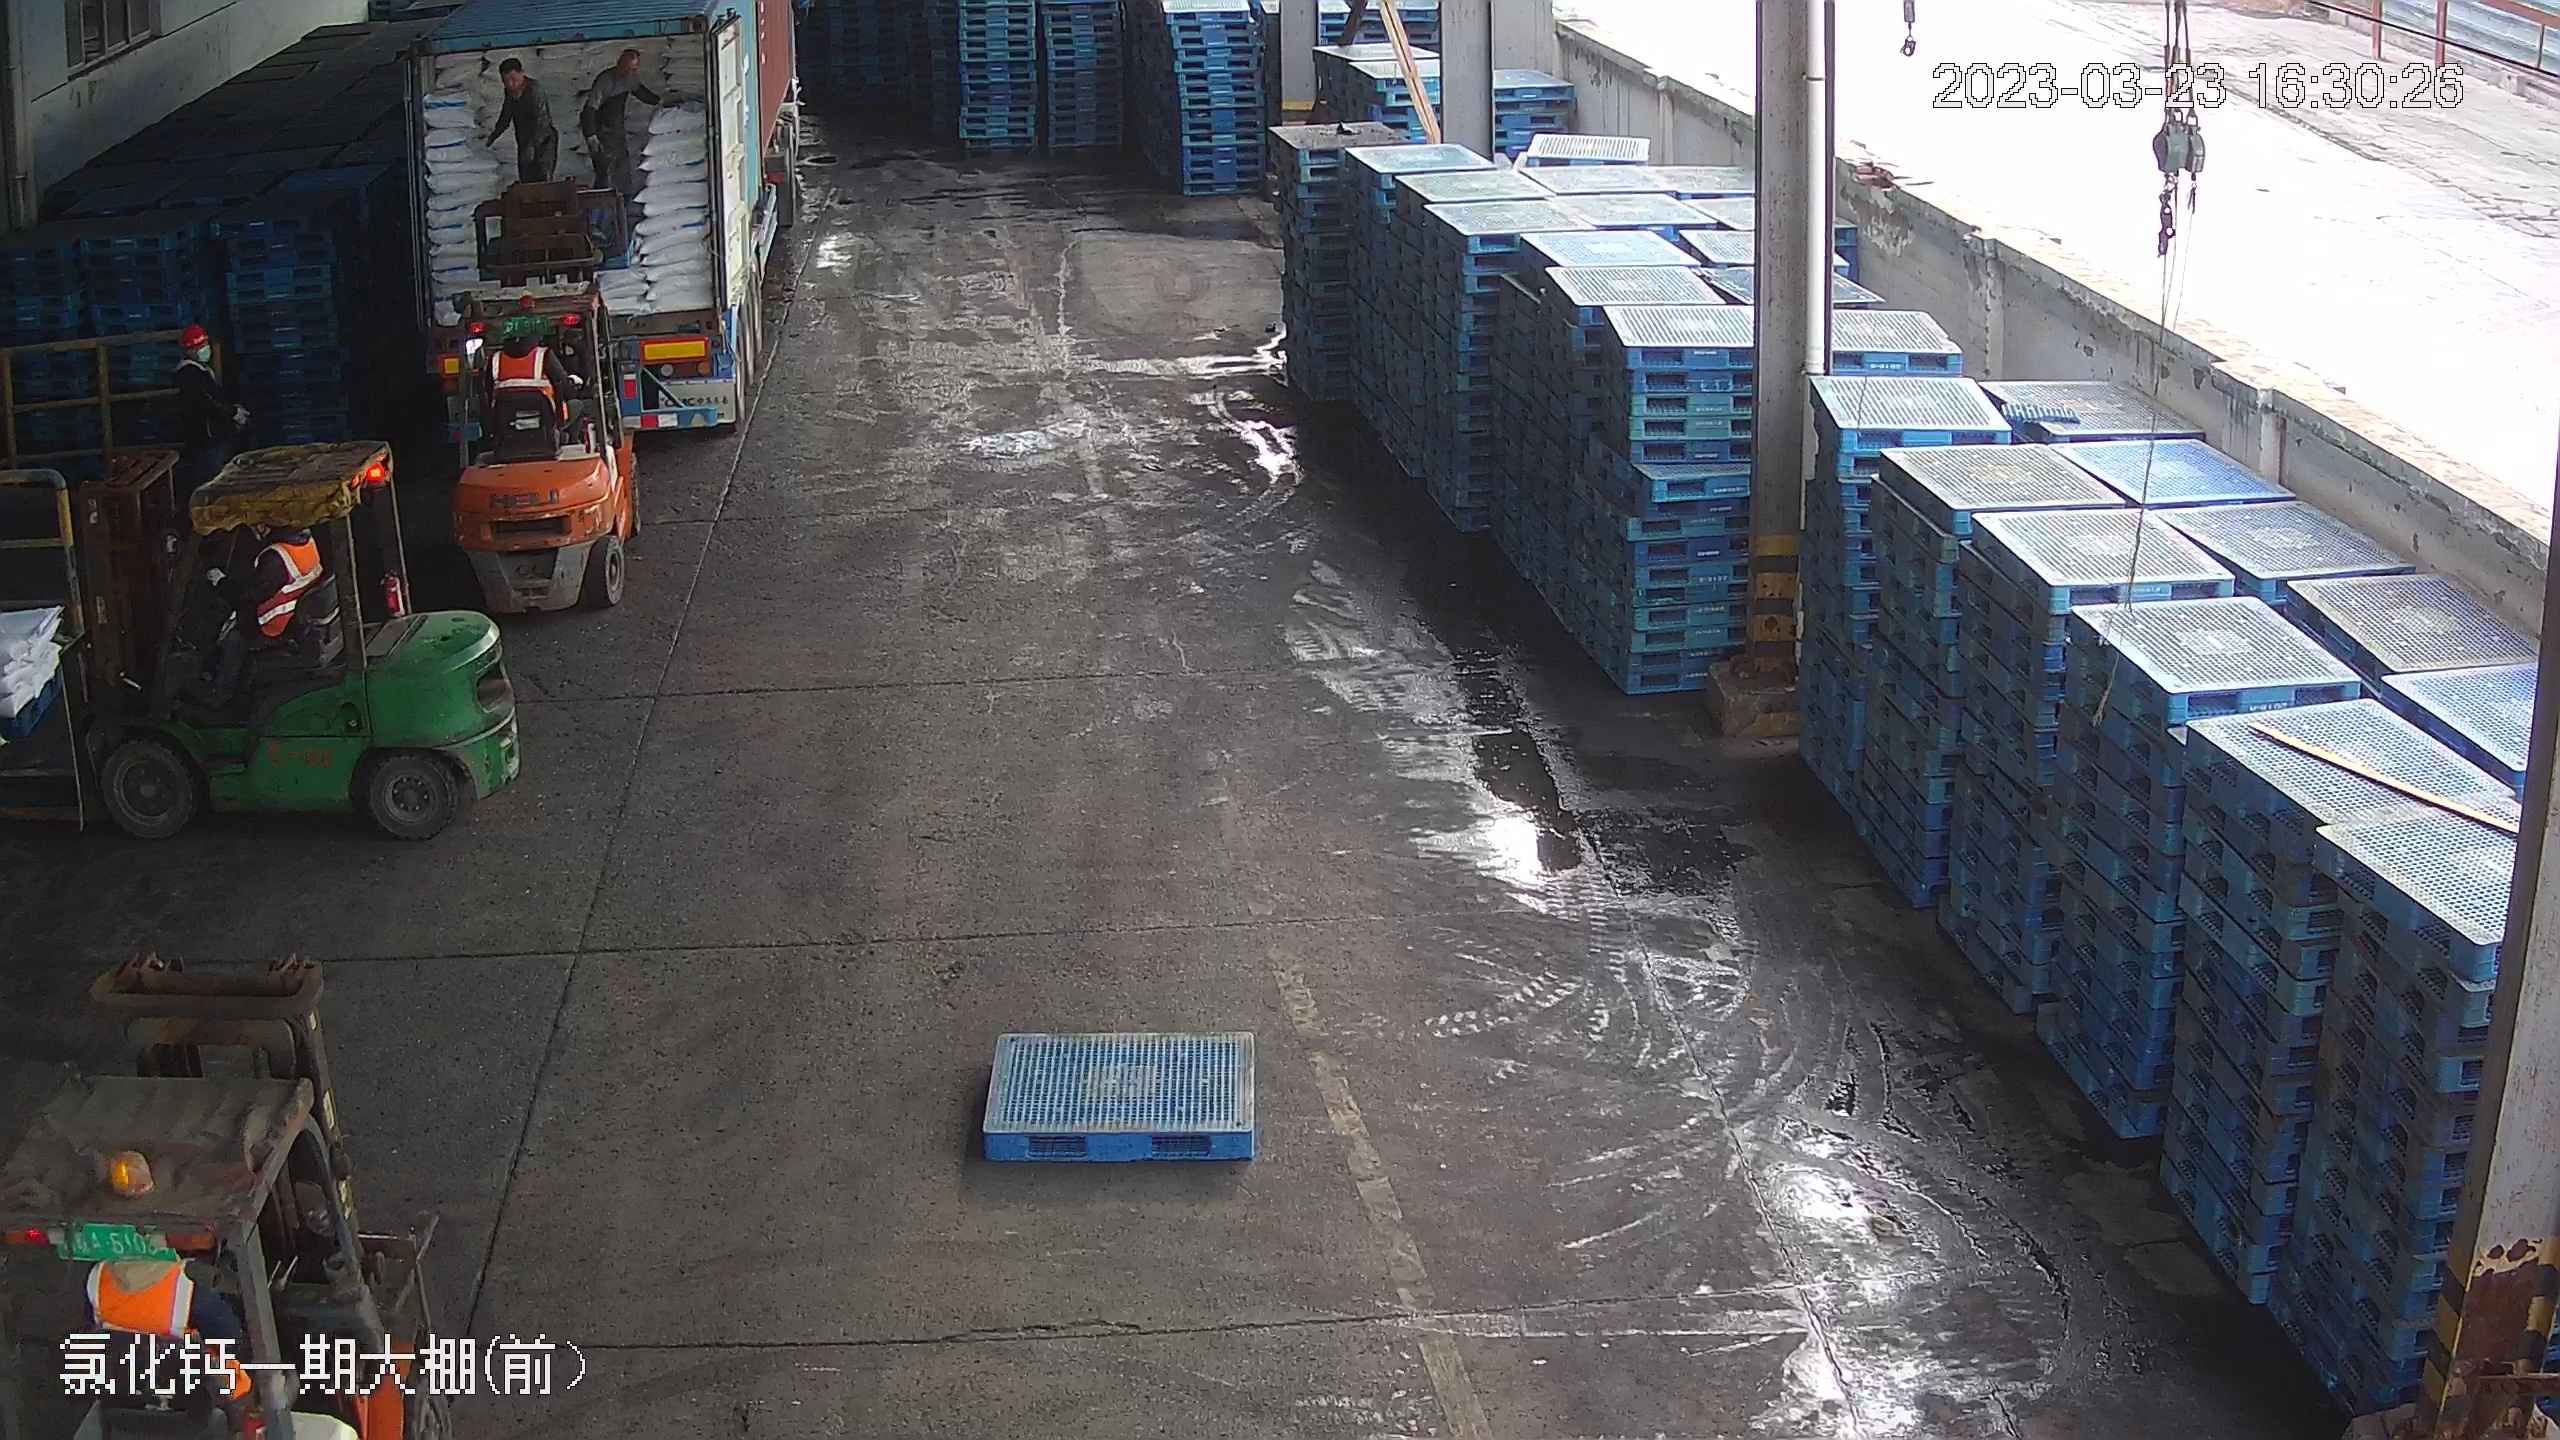head: (585, 44, 656, 107), (494, 57, 549, 118)
people: (190, 513, 323, 693), (578, 43, 660, 223), (494, 54, 561, 192)
truck: (460, 19, 816, 430)
